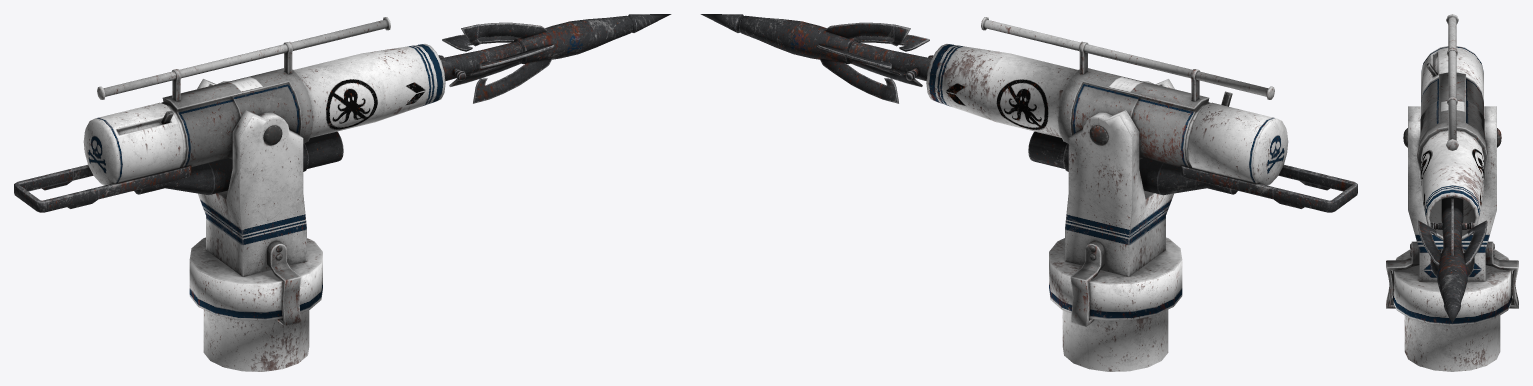
Rendered from Harpoon.fbx.
The picture shows the model from 3 angles, left to right: view 1: azimuth 30°, elevation 25°; view 2: azimuth 150°, elevation 25°; view 3: azimuth 270°, elevation 25°; orthographic projection. The views are drawn at different scales.
Visible parts, largest first — view 1: Harpoon gun, Harpoon Arrow; view 2: Harpoon gun, Harpoon Arrow; view 3: Harpoon gun, Harpoon Arrow.
Part boxes in pixels (bbox=[...]): Harpoon gun: bbox=[14, 17, 445, 371]; Harpoon Arrow: bbox=[438, 14, 671, 103]; Harpoon gun: bbox=[926, 17, 1357, 371]; Harpoon Arrow: bbox=[700, 14, 933, 103]; Harpoon gun: bbox=[1386, 14, 1518, 371]; Harpoon Arrow: bbox=[1417, 197, 1487, 322].
Size of the model in its own units: 118 by 52.62 by 23.52.
